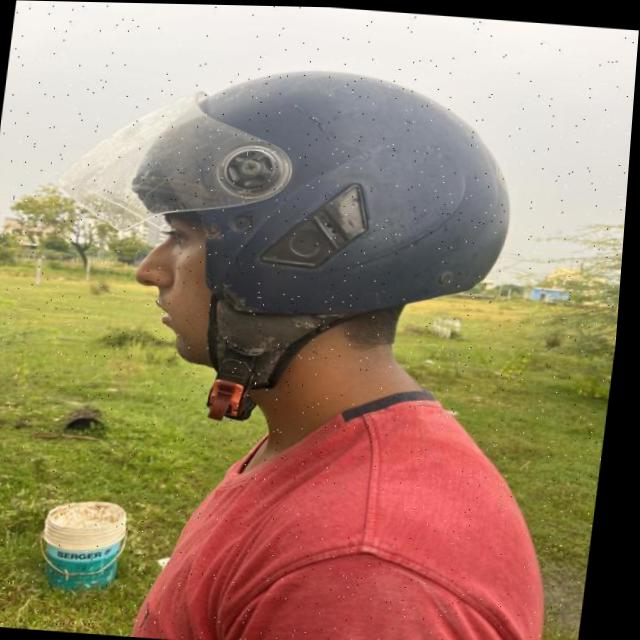helmet: (30, 48, 536, 441)
